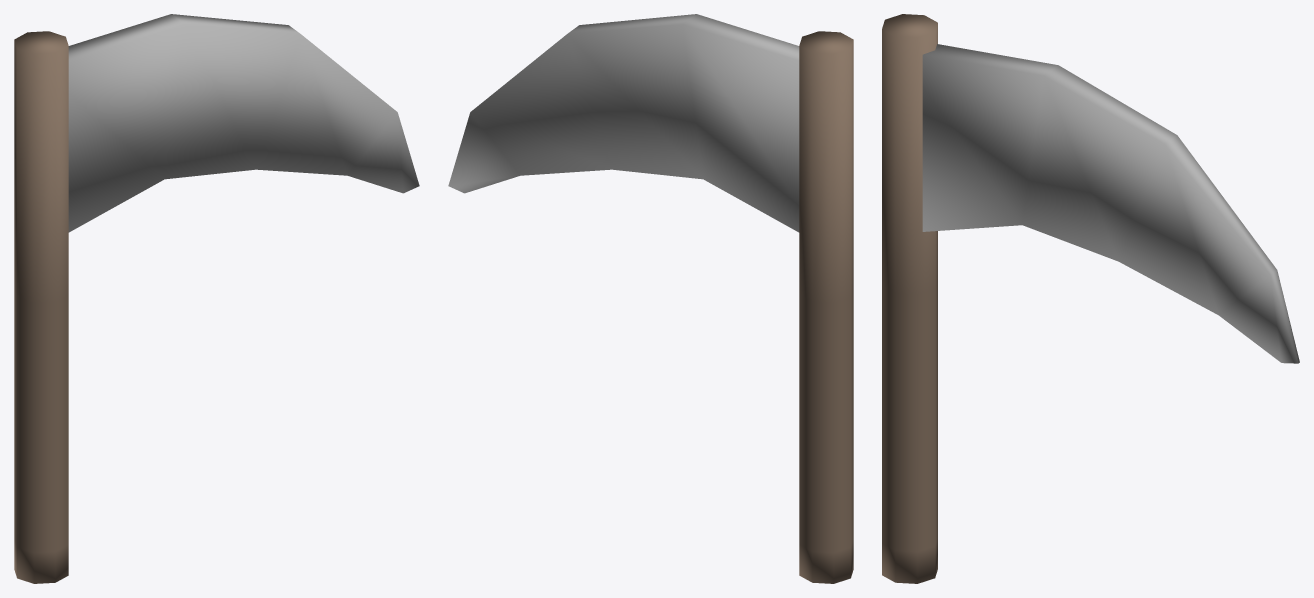
Rendered from scythe.fbx.
3 renders of one model, left to right at view 1: azimuth 30°, elevation 25°; view 2: azimuth 150°, elevation 25°; view 3: azimuth 330°, elevation 25°, orthographic. The views are drawn at different scales.
Visible parts, largest first — view 1: Cube, Cylinder; view 2: Cube, Cylinder; view 3: Cube, Cylinder.
Part boxes in pixels (<box>): Cube: <box>68,14,419,232</box>; Cylinder: <box>14,31,68,583</box>; Cube: <box>448,14,799,232</box>; Cylinder: <box>799,31,853,583</box>; Cube: <box>922,44,1299,363</box>; Cylinder: <box>882,14,937,583</box>.
Size of the model in its own units: 206 by 260 by 25.
